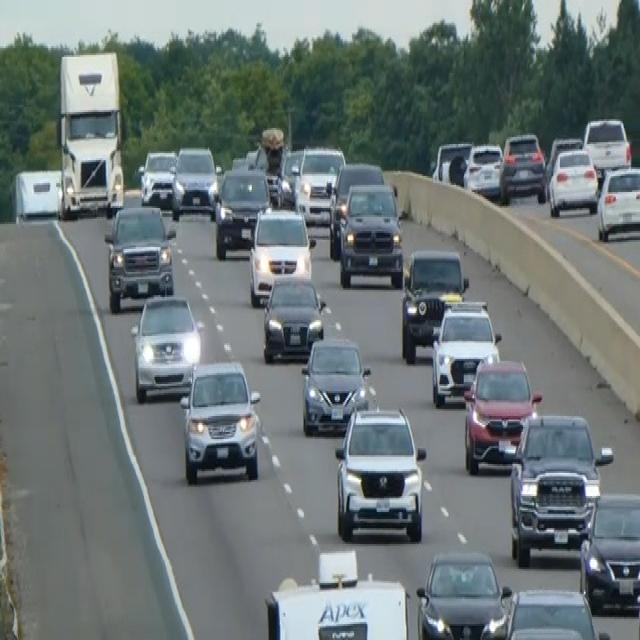car: (508, 411, 612, 567), (334, 404, 426, 542), (179, 358, 261, 486), (462, 354, 542, 474), (415, 548, 511, 638), (129, 292, 202, 402), (400, 245, 468, 363), (430, 297, 501, 407), (104, 201, 175, 311), (300, 334, 375, 436), (579, 489, 639, 613), (338, 181, 404, 288), (247, 204, 315, 306), (480, 585, 610, 638), (261, 270, 327, 363), (213, 163, 271, 260), (327, 160, 384, 258), (295, 144, 345, 226), (547, 146, 599, 217), (171, 144, 218, 219), (499, 130, 546, 202), (596, 164, 639, 242), (582, 114, 631, 180), (255, 124, 288, 204), (138, 148, 177, 210), (463, 141, 503, 199), (545, 134, 583, 188), (431, 138, 472, 186), (279, 146, 304, 204), (635, 555, 639, 638)
lorry: (56, 48, 125, 219)
truck: (264, 548, 409, 638)
